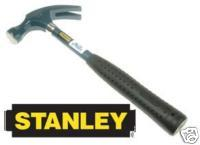hammer: (4, 2, 187, 136)
